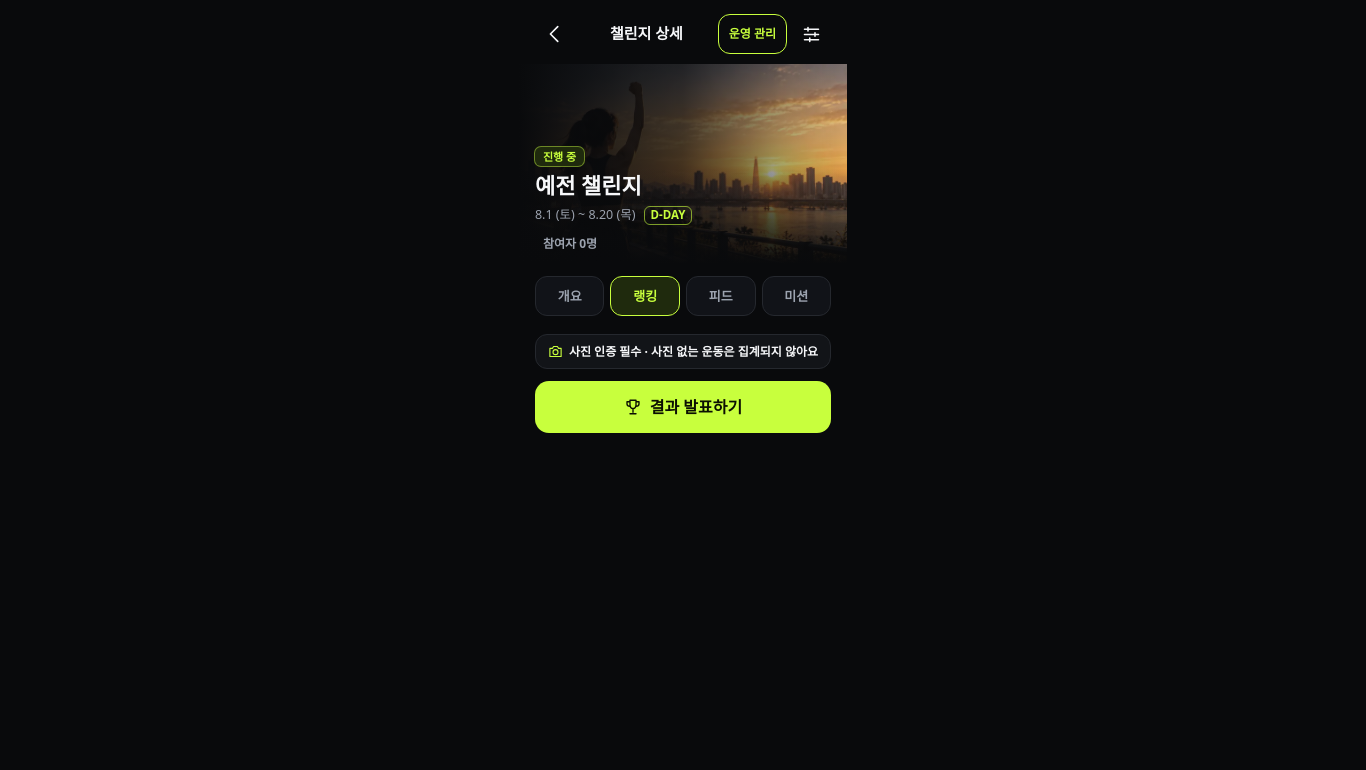
ChallengePage 챌린지 전환 › 진행 중 챌린지 점수 조회가 실패해도 새 상세 정보를 완료된 것처럼 열지 않는다
Click the tab "개요".
click(570, 296)  # box x1=535 y1=276 x2=604 y2=316
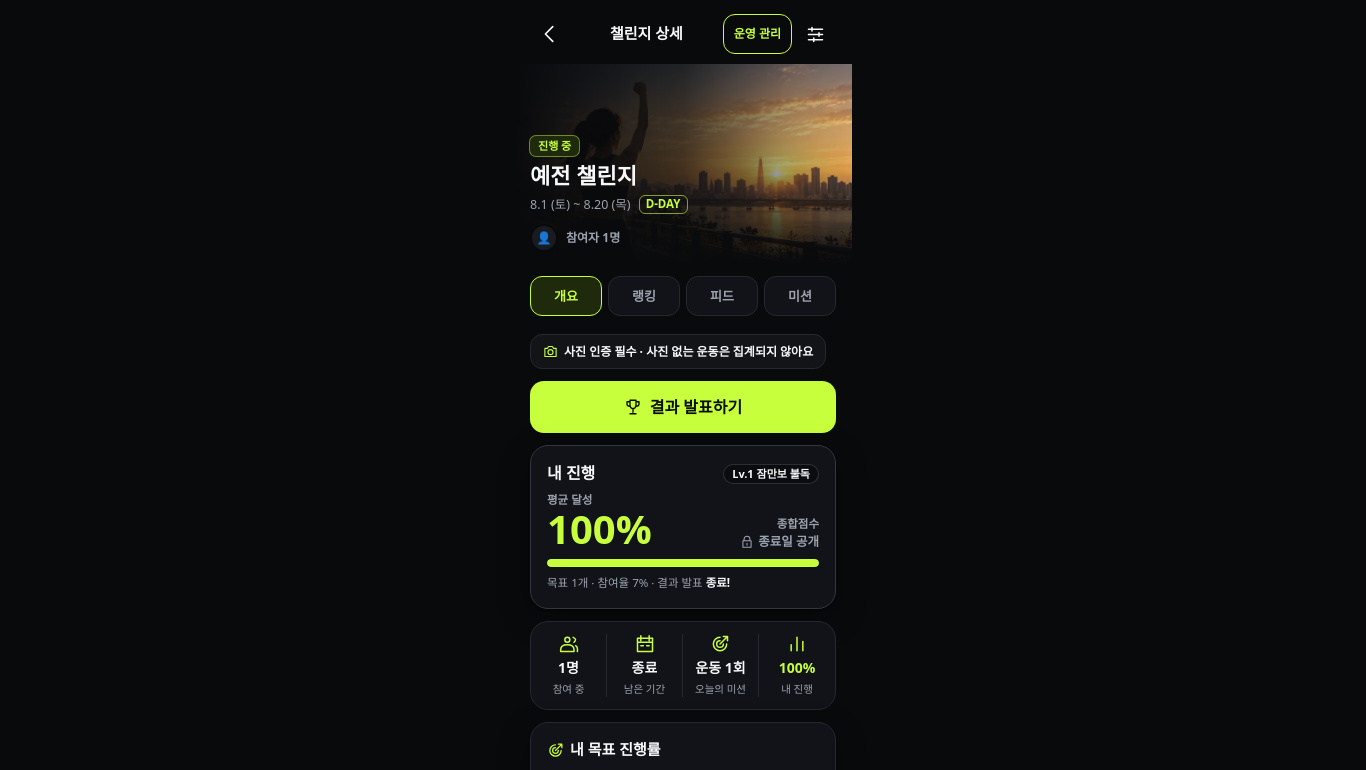
Click the button named "챌린지 목록으로".
click(550, 34)  # box x1=530 y1=14 x2=570 y2=54
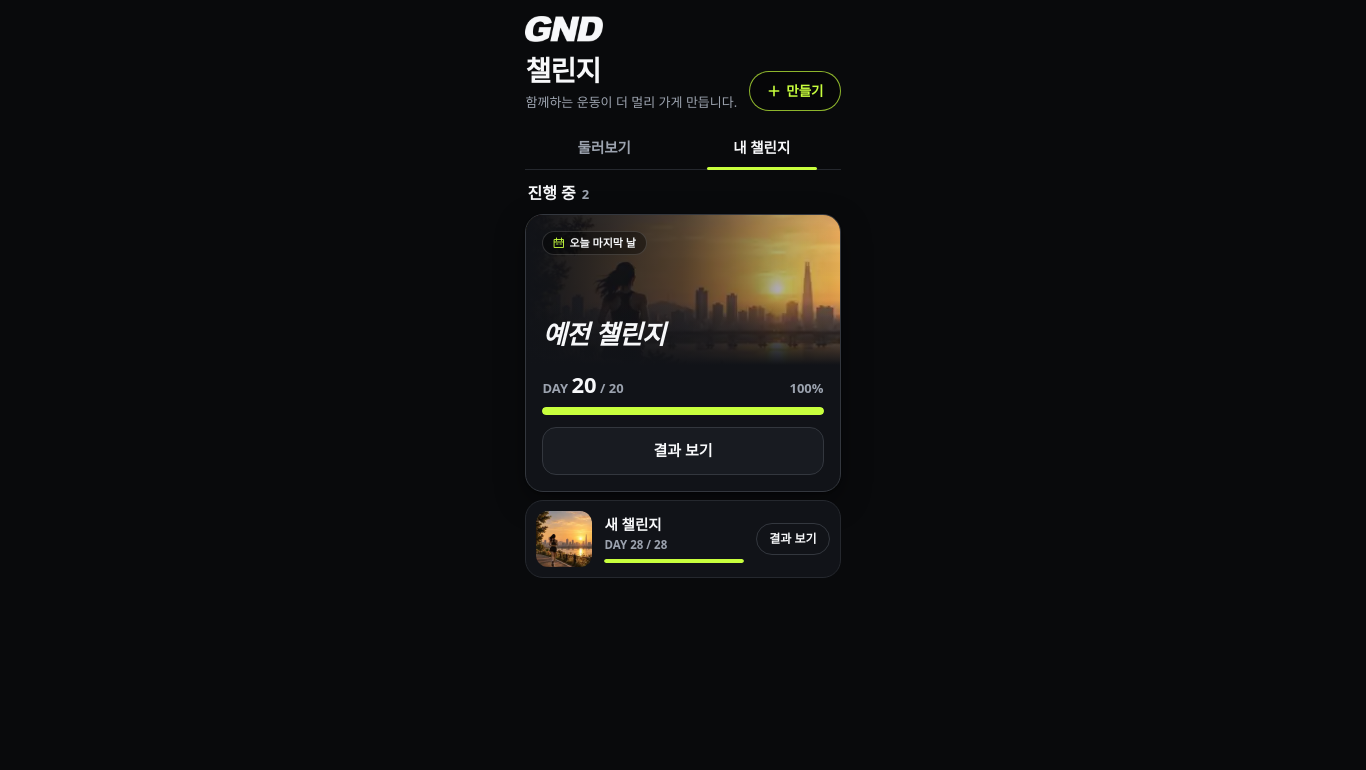
Click the button named "새 챌린지 열기".
click(564, 538)  # box x1=536 y1=510 x2=592 y2=566
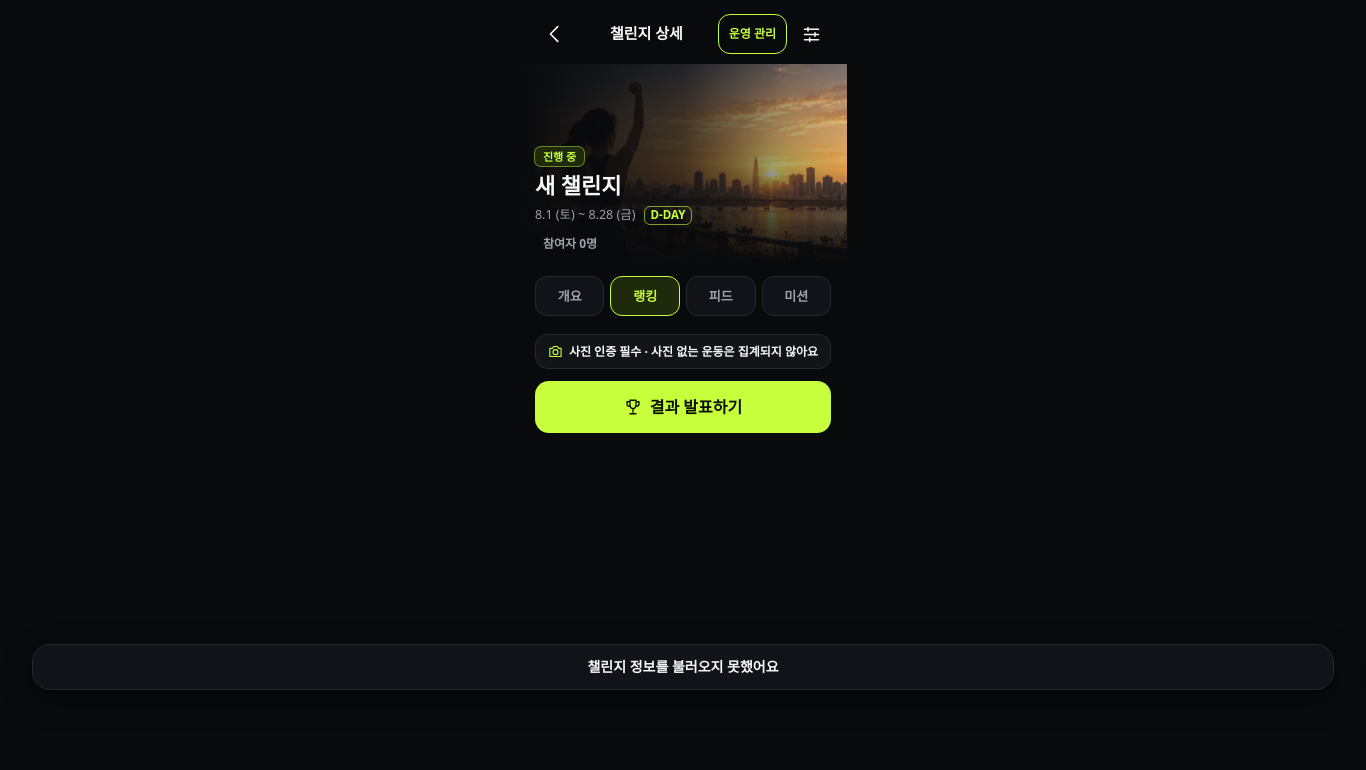
Now the text "챌린지 정보를 불러오지 못했어요" is shown, box x1=32 y1=644 x2=1334 y2=690
